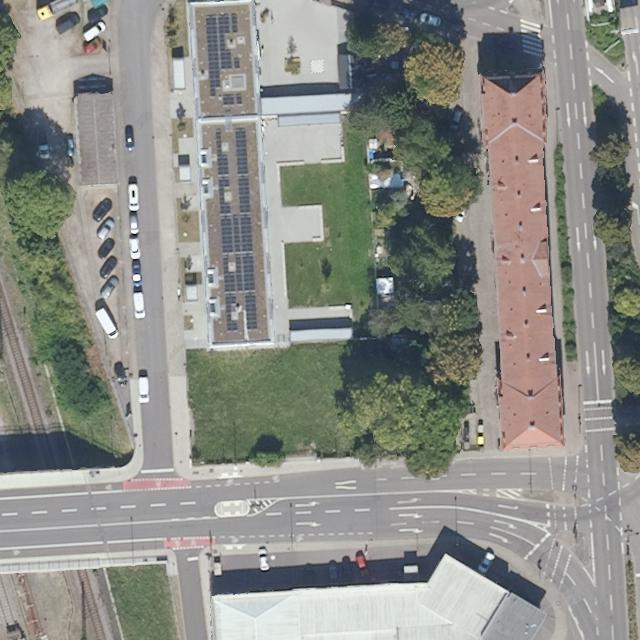PV: (218, 126, 254, 254), (204, 11, 242, 99), (222, 255, 256, 293), (214, 127, 231, 178), (223, 293, 240, 334), (243, 293, 259, 332), (221, 93, 244, 108)
